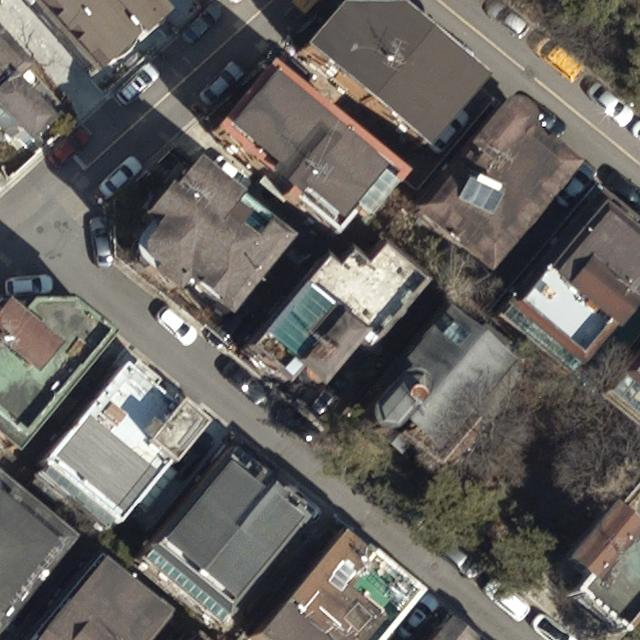panel: (457, 173, 506, 216), (328, 559, 358, 591)
